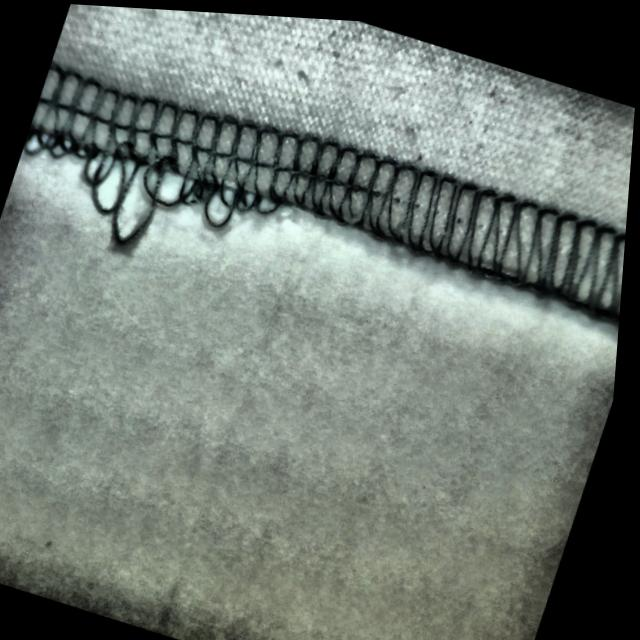Stitch: (2, 51, 307, 287)
